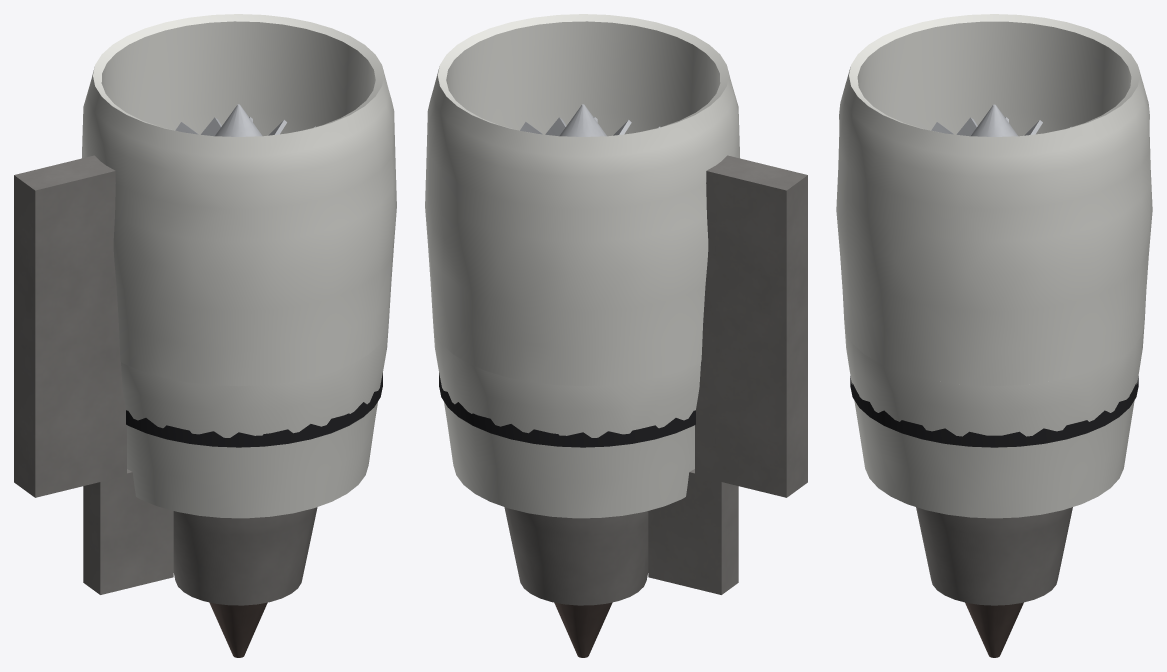
The model's file is jet01_turbofan.glb.
3 views of the same model, side by side, from view 1: azimuth 30°, elevation 25°; view 2: azimuth 150°, elevation 25°; view 3: azimuth 270°, elevation 25° (orthographic).
Parts seen in each view (by area): view 1: fan_cowl, pylon, reverser_sleeve, core_cowl, cascade, exhaust_plug, spinner; view 2: fan_cowl, pylon, reverser_sleeve, core_cowl, cascade, exhaust_plug, spinner; view 3: fan_cowl, reverser_sleeve, core_cowl, cascade, exhaust_plug, spinner, fan.
Boxes of the visible parts, x1,y1,x2,y2 form: fan_cowl: (81,14,396,386); pylon: (14,155,173,594); reverser_sleeve: (121,323,388,518); core_cowl: (173,507,317,605); cascade: (126,373,382,447); exhaust_plug: (209,602,267,657); spinner: (215,104,262,136); fan_cowl: (425,14,740,386); pylon: (648,155,807,594); reverser_sleeve: (433,323,700,518); core_cowl: (504,507,648,605); cascade: (439,373,695,447); exhaust_plug: (554,602,612,657); spinner: (559,104,606,136); fan_cowl: (836,14,1152,386); reverser_sleeve: (844,324,1144,518); core_cowl: (916,507,1072,605); cascade: (850,376,1138,447); exhaust_plug: (965,602,1023,657); spinner: (971,104,1017,136); fan: (931,116,1070,136).
Size of the model in its own units: 2.87 by 4.53 by 2.24.
Materials: 5 (3 with a texture image).
